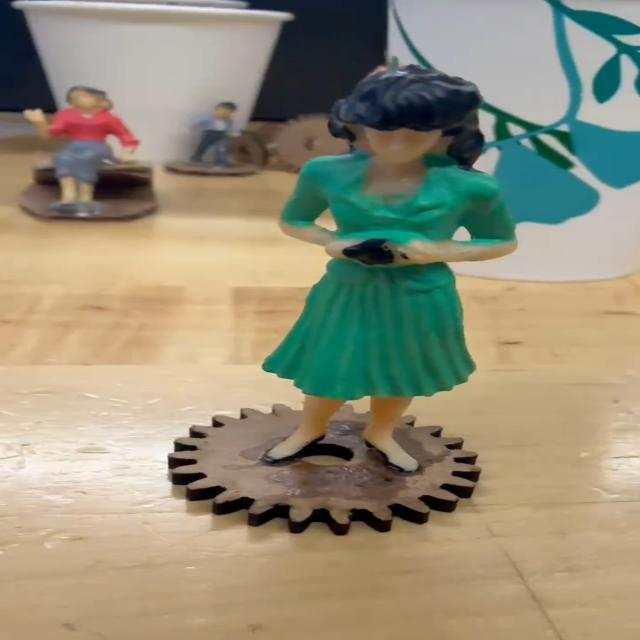Authorized: (229, 50, 538, 475)
